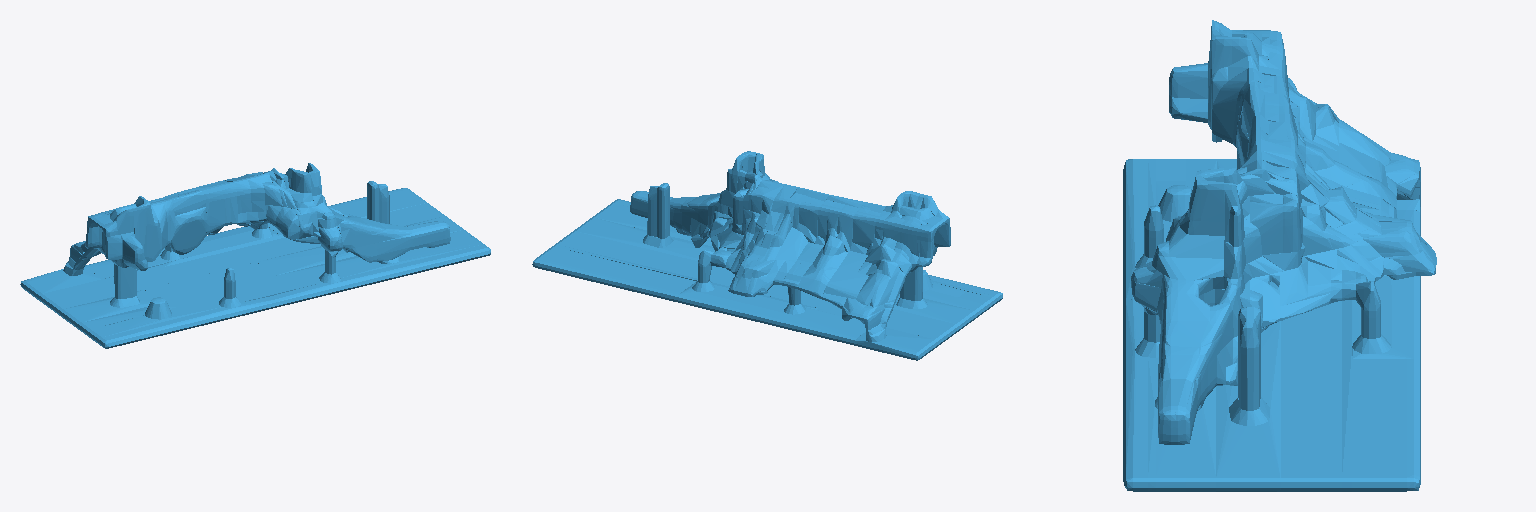
The robot description file, URDF, robot "4B-G65LH-F":
<?xml version='1.0' encoding='UTF-8'?>
<robot name="4B-G65LH-F">
  <link name="world">
    <inertial>
      <origin xyz="0.0 0.0 0.0" rpy="0.0 -0.0 0.0"/>
      <mass value="1.0"/>
      <inertia ixx="1.0" ixy="0.0" ixz="0.0" iyy="1.0" iyz="0.0" izz="1.0"/>
    </inertial>
  </link>
  <link name="G65-LH-F">
    <inertial>
      <origin xyz="-0.038415 -0.020011 0.1653" rpy="0.0 0.0 0.0"/>
      <mass value="27.493"/>
      <inertia ixx="0.71144" ixy="0.16531" ixz="0.13401" iyy="4.3631" iyz="-0.002075" izz="4.9325"/>
    </inertial>
    <visual>
      <geometry>
        <mesh filename="meshes/G65-LH-F.STL"/>
      </geometry>
      <material name=""/>
      <origin xyz="0.0 0.0 0.0" rpy="0.0 0.0 0.0"/>
    </visual>
    <collision name="G65-LH-F_collision">
      <geometry>
        <mesh filename="collision/G65-LH-F.STL"/>
        <convex filename="collision/G65-LH-F_part_0.STL"/>
        <convex filename="collision/G65-LH-F_part_1.STL"/>
        <convex filename="collision/G65-LH-F_part_2.STL"/>
        <convex filename="collision/G65-LH-F_part_3.STL"/>
        <convex filename="collision/G65-LH-F_part_4.STL"/>
        <convex filename="collision/G65-LH-F_part_5.STL"/>
        <convex filename="collision/G65-LH-F_part_6.STL"/>
        <convex filename="collision/G65-LH-F_part_7.STL"/>
        <convex filename="collision/G65-LH-F_part_8.STL"/>
        <convex filename="collision/G65-LH-F_part_9.STL"/>
        <convex filename="collision/G65-LH-F_part_10.STL"/>
        <convex filename="collision/G65-LH-F_part_11.STL"/>
        <convex filename="collision/G65-LH-F_part_12.STL"/>
        <convex filename="collision/G65-LH-F_part_13.STL"/>
        <convex filename="collision/G65-LH-F_part_14.STL"/>
        <convex filename="collision/G65-LH-F_part_15.STL"/>
        <convex filename="collision/G65-LH-F_part_16.STL"/>
        <convex filename="collision/G65-LH-F_part_17.STL"/>
        <convex filename="collision/G65-LH-F_part_18.STL"/>
        <convex filename="collision/G65-LH-F_part_19.STL"/>
        <convex filename="collision/G65-LH-F_part_20.STL"/>
        <convex filename="collision/G65-LH-F_part_21.STL"/>
        <convex filename="collision/G65-LH-F_part_22.STL"/>
        <convex filename="collision/G65-LH-F_part_23.STL"/>
        <convex filename="collision/G65-LH-F_part_24.STL"/>
        <convex filename="collision/G65-LH-F_part_25.STL"/>
        <convex filename="collision/G65-LH-F_part_26.STL"/>
        <convex filename="collision/G65-LH-F_part_27.STL"/>
        <convex filename="collision/G65-LH-F_part_28.STL"/>
        <convex filename="collision/G65-LH-F_part_29.STL"/>
        <convex filename="collision/G65-LH-F_part_30.STL"/>
        <convex filename="collision/G65-LH-F_part_31.STL"/>
        <convex filename="collision/G65-LH-F_part_32.STL"/>
        <convex filename="collision/G65-LH-F_part_33.STL"/>
        <convex filename="collision/G65-LH-F_part_34.STL"/>
        <convex filename="collision/G65-LH-F_part_35.STL"/>
        <convex filename="collision/G65-LH-F_part_36.STL"/>
        <convex filename="collision/G65-LH-F_part_37.STL"/>
        <convex filename="collision/G65-LH-F_part_38.STL"/>
        <convex filename="collision/G65-LH-F_part_39.STL"/>
        <convex filename="collision/G65-LH-F_part_40.STL"/>
        <convex filename="collision/G65-LH-F_part_41.STL"/>
        <convex filename="collision/G65-LH-F_part_42.STL"/>
        <convex filename="collision/G65-LH-F_part_43.STL"/>
        <convex filename="collision/G65-LH-F_part_44.STL"/>
        <convex filename="collision/G65-LH-F_part_45.STL"/>
        <convex filename="collision/G65-LH-F_part_46.STL"/>
        <convex filename="collision/G65-LH-F_part_47.STL"/>
        <convex filename="collision/G65-LH-F_part_48.STL"/>
        <convex filename="collision/G65-LH-F_part_49.STL"/>
        <convex filename="collision/G65-LH-F_part_50.STL"/>
        <convex filename="collision/G65-LH-F_part_51.STL"/>
        <convex filename="collision/G65-LH-F_part_52.STL"/>
        <convex filename="collision/G65-LH-F_part_53.STL"/>
        <convex filename="collision/G65-LH-F_part_54.STL"/>
        <convex filename="collision/G65-LH-F_part_55.STL"/>
        <convex filename="collision/G65-LH-F_part_56.STL"/>
        <convex filename="collision/G65-LH-F_part_57.STL"/>
        <convex filename="collision/G65-LH-F_part_58.STL"/>
        <convex filename="collision/G65-LH-F_part_59.STL"/>
        <convex filename="collision/G65-LH-F_part_60.STL"/>
        <convex filename="collision/G65-LH-F_part_61.STL"/>
        <convex filename="collision/G65-LH-F_part_62.STL"/>
        <convex filename="collision/G65-LH-F_part_63.STL"/>
        <convex filename="collision/G65-LH-F_part_64.STL"/>
        <convex filename="collision/G65-LH-F_part_65.STL"/>
        <convex filename="collision/G65-LH-F_part_66.STL"/>
        <convex filename="collision/G65-LH-F_part_67.STL"/>
        <convex filename="collision/G65-LH-F_part_68.STL"/>
        <convex filename="collision/G65-LH-F_part_69.STL"/>
        <convex filename="collision/G65-LH-F_part_70.STL"/>
        <convex filename="collision/G65-LH-F_part_71.STL"/>
        <convex filename="collision/G65-LH-F_part_72.STL"/>
        <convex filename="collision/G65-LH-F_part_73.STL"/>
        <convex filename="collision/G65-LH-F_part_74.STL"/>
        <convex filename="collision/G65-LH-F_part_75.STL"/>
        <convex filename="collision/G65-LH-F_part_76.STL"/>
        <convex filename="collision/G65-LH-F_part_77.STL"/>
        <convex filename="collision/G65-LH-F_part_78.STL"/>
        <convex filename="collision/G65-LH-F_part_79.STL"/>
        <convex filename="collision/G65-LH-F_part_80.STL"/>
        <convex filename="collision/G65-LH-F_part_81.STL"/>
        <convex filename="collision/G65-LH-F_part_82.STL"/>
        <convex filename="collision/G65-LH-F_part_83.STL"/>
        <convex filename="collision/G65-LH-F_part_84.STL"/>
        <convex filename="collision/G65-LH-F_part_85.STL"/>
        <convex filename="collision/G65-LH-F_part_86.STL"/>
        <convex filename="collision/G65-LH-F_part_87.STL"/>
        <convex filename="collision/G65-LH-F_part_88.STL"/>
        <convex filename="collision/G65-LH-F_part_89.STL"/>
        <convex filename="collision/G65-LH-F_part_90.STL"/>
        <convex filename="collision/G65-LH-F_part_91.STL"/>
        <convex filename="collision/G65-LH-F_part_92.STL"/>
        <convex filename="collision/G65-LH-F_part_93.STL"/>
        <convex filename="collision/G65-LH-F_part_94.STL"/>
        <convex filename="collision/G65-LH-F_part_95.STL"/>
        <convex filename="collision/G65-LH-F_part_96.STL"/>
        <convex filename="collision/G65-LH-F_part_97.STL"/>
        <convex filename="collision/G65-LH-F_part_98.STL"/>
        <convex filename="collision/G65-LH-F_part_99.STL"/>
        <convex filename="collision/G65-LH-F_part_100.STL"/>
        <convex filename="collision/G65-LH-F_part_101.STL"/>
        <convex filename="collision/G65-LH-F_part_102.STL"/>
        <convex filename="collision/G65-LH-F_part_103.STL"/>
        <convex filename="collision/G65-LH-F_part_104.STL"/>
        <convex filename="collision/G65-LH-F_part_105.STL"/>
        <convex filename="collision/G65-LH-F_part_106.STL"/>
        <convex filename="collision/G65-LH-F_part_107.STL"/>
        <convex filename="collision/G65-LH-F_part_108.STL"/>
        <convex filename="collision/G65-LH-F_part_109.STL"/>
        <convex filename="collision/G65-LH-F_part_110.STL"/>
        <convex filename="collision/G65-LH-F_part_111.STL"/>
        <convex filename="collision/G65-LH-F_part_112.STL"/>
        <convex filename="collision/G65-LH-F_part_113.STL"/>
        <convex filename="collision/G65-LH-F_part_114.STL"/>
        <convex filename="collision/G65-LH-F_part_115.STL"/>
        <convex filename="collision/G65-LH-F_part_116.STL"/>
        <convex filename="collision/G65-LH-F_part_117.STL"/>
        <convex filename="collision/G65-LH-F_part_118.STL"/>
        <convex filename="collision/G65-LH-F_part_119.STL"/>
        <convex filename="collision/G65-LH-F_part_120.STL"/>
        <convex filename="collision/G65-LH-F_part_121.STL"/>
        <convex filename="collision/G65-LH-F_part_122.STL"/>
        <convex filename="collision/G65-LH-F_part_123.STL"/>
        <convex filename="collision/G65-LH-F_part_124.STL"/>
        <convex filename="collision/G65-LH-F_part_125.STL"/>
        <convex filename="collision/G65-LH-F_part_126.STL"/>
        <convex filename="collision/G65-LH-F_part_127.STL"/>
        <convex filename="collision/G65-LH-F_part_128.STL"/>
        <convex filename="collision/G65-LH-F_part_129.STL"/>
        <convex filename="collision/G65-LH-F_part_130.STL"/>
        <convex filename="collision/G65-LH-F_part_131.STL"/>
        <convex filename="collision/G65-LH-F_part_132.STL"/>
        <convex filename="collision/G65-LH-F_part_133.STL"/>
        <convex filename="collision/G65-LH-F_part_134.STL"/>
        <convex filename="collision/G65-LH-F_part_135.STL"/>
        <convex filename="collision/G65-LH-F_part_136.STL"/>
        <convex filename="collision/G65-LH-F_part_137.STL"/>
        <convex filename="collision/G65-LH-F_part_138.STL"/>
        <convex filename="collision/G65-LH-F_part_139.STL"/>
        <convex filename="collision/G65-LH-F_part_140.STL"/>
        <convex filename="collision/G65-LH-F_part_141.STL"/>
        <convex filename="collision/G65-LH-F_part_142.STL"/>
        <convex filename="collision/G65-LH-F_part_143.STL"/>
        <convex filename="collision/G65-LH-F_part_144.STL"/>
        <convex filename="collision/G65-LH-F_part_145.STL"/>
        <convex filename="collision/G65-LH-F_part_146.STL"/>
        <convex filename="collision/G65-LH-F_part_147.STL"/>
        <convex filename="collision/G65-LH-F_part_148.STL"/>
        <convex filename="collision/G65-LH-F_part_149.STL"/>
        <convex filename="collision/G65-LH-F_part_150.STL"/>
        <convex filename="collision/G65-LH-F_part_151.STL"/>
        <convex filename="collision/G65-LH-F_part_152.STL"/>
        <convex filename="collision/G65-LH-F_part_153.STL"/>
        <convex filename="collision/G65-LH-F_part_154.STL"/>
        <convex filename="collision/G65-LH-F_part_155.STL"/>
        <convex filename="collision/G65-LH-F_part_156.STL"/>
        <convex filename="collision/G65-LH-F_part_157.STL"/>
        <convex filename="collision/G65-LH-F_part_158.STL"/>
        <convex filename="collision/G65-LH-F_part_159.STL"/>
        <convex filename="collision/G65-LH-F_part_160.STL"/>
        <convex filename="collision/G65-LH-F_part_161.STL"/>
        <convex filename="collision/G65-LH-F_part_162.STL"/>
        <convex filename="collision/G65-LH-F_part_163.STL"/>
        <convex filename="collision/G65-LH-F_part_164.STL"/>
        <convex filename="collision/G65-LH-F_part_165.STL"/>
        <convex filename="collision/G65-LH-F_part_166.STL"/>
        <convex filename="collision/G65-LH-F_part_167.STL"/>
        <convex filename="collision/G65-LH-F_part_168.STL"/>
        <convex filename="collision/G65-LH-F_part_169.STL"/>
        <convex filename="collision/G65-LH-F_part_170.STL"/>
        <convex filename="collision/G65-LH-F_part_171.STL"/>
        <convex filename="collision/G65-LH-F_part_172.STL"/>
        <convex filename="collision/G65-LH-F_part_173.STL"/>
        <convex filename="collision/G65-LH-F_part_174.STL"/>
        <convex filename="collision/G65-LH-F_part_175.STL"/>
        <convex filename="collision/G65-LH-F_part_176.STL"/>
        <convex filename="collision/G65-LH-F_part_177.STL"/>
        <convex filename="collision/G65-LH-F_part_178.STL"/>
        <convex filename="collision/G65-LH-F_part_179.STL"/>
        <convex filename="collision/G65-LH-F_part_180.STL"/>
        <convex filename="collision/G65-LH-F_part_181.STL"/>
        <convex filename="collision/G65-LH-F_part_182.STL"/>
        <convex filename="collision/G65-LH-F_part_183.STL"/>
        <convex filename="collision/G65-LH-F_part_184.STL"/>
        <convex filename="collision/G65-LH-F_part_185.STL"/>
        <convex filename="collision/G65-LH-F_part_186.STL"/>
        <convex filename="collision/G65-LH-F_part_187.STL"/>
        <convex filename="collision/G65-LH-F_part_188.STL"/>
        <convex filename="collision/G65-LH-F_part_189.STL"/>
        <convex filename="collision/G65-LH-F_part_190.STL"/>
        <convex filename="collision/G65-LH-F_part_191.STL"/>
        <convex filename="collision/G65-LH-F_part_192.STL"/>
        <convex filename="collision/G65-LH-F_part_193.STL"/>
        <convex filename="collision/G65-LH-F_part_194.STL"/>
        <convex filename="collision/G65-LH-F_part_195.STL"/>
        <convex filename="collision/G65-LH-F_part_196.STL"/>
        <convex filename="collision/G65-LH-F_part_197.STL"/>
        <convex filename="collision/G65-LH-F_part_198.STL"/>
        <convex filename="collision/G65-LH-F_part_199.STL"/>
        <convex filename="collision/G65-LH-F_part_200.STL"/>
        <convex filename="collision/G65-LH-F_part_201.STL"/>
        <convex filename="collision/G65-LH-F_part_202.STL"/>
        <convex filename="collision/G65-LH-F_part_203.STL"/>
        <convex filename="collision/G65-LH-F_part_204.STL"/>
        <convex filename="collision/G65-LH-F_part_205.STL"/>
        <convex filename="collision/G65-LH-F_part_206.STL"/>
        <convex filename="collision/G65-LH-F_part_207.STL"/>
        <convex filename="collision/G65-LH-F_part_208.STL"/>
        <convex filename="collision/G65-LH-F_part_209.STL"/>
        <convex filename="collision/G65-LH-F_part_210.STL"/>
        <convex filename="collision/G65-LH-F_part_211.STL"/>
        <convex filename="collision/G65-LH-F_part_212.STL"/>
        <convex filename="collision/G65-LH-F_part_213.STL"/>
        <convex filename="collision/G65-LH-F_part_214.STL"/>
        <convex filename="collision/G65-LH-F_part_215.STL"/>
        <convex filename="collision/G65-LH-F_part_216.STL"/>
        <convex filename="collision/G65-LH-F_part_217.STL"/>
        <convex filename="collision/G65-LH-F_part_218.STL"/>
        <convex filename="collision/G65-LH-F_part_219.STL"/>
        <convex filename="collision/G65-LH-F_part_220.STL"/>
        <convex filename="collision/G65-LH-F_part_221.STL"/>
        <convex filename="collision/G65-LH-F_part_222.STL"/>
        <convex filename="collision/G65-LH-F_part_223.STL"/>
        <convex filename="collision/G65-LH-F_part_224.STL"/>
        <convex filename="collision/G65-LH-F_part_225.STL"/>
        <convex filename="collision/G65-LH-F_part_226.STL"/>
        <convex filename="collision/G65-LH-F_part_227.STL"/>
        <convex filename="collision/G65-LH-F_part_228.STL"/>
        <convex filename="collision/G65-LH-F_part_229.STL"/>
        <convex filename="collision/G65-LH-F_part_230.STL"/>
        <convex filename="collision/G65-LH-F_part_231.STL"/>
        <convex filename="collision/G65-LH-F_part_232.STL"/>
        <convex filename="collision/G65-LH-F_part_233.STL"/>
        <convex filename="collision/G65-LH-F_part_234.STL"/>
        <convex filename="collision/G65-LH-F_part_235.STL"/>
        <convex filename="collision/G65-LH-F_part_236.STL"/>
        <convex filename="collision/G65-LH-F_part_237.STL"/>
        <convex filename="collision/G65-LH-F_part_238.STL"/>
        <convex filename="collision/G65-LH-F_part_239.STL"/>
        <convex filename="collision/G65-LH-F_part_240.STL"/>
        <convex filename="collision/G65-LH-F_part_241.STL"/>
        <convex filename="collision/G65-LH-F_part_242.STL"/>
        <convex filename="collision/G65-LH-F_part_243.STL"/>
        <convex filename="collision/G65-LH-F_part_244.STL"/>
        <convex filename="collision/G65-LH-F_part_245.STL"/>
        <convex filename="collision/G65-LH-F_part_246.STL"/>
        <convex filename="collision/G65-LH-F_part_247.STL"/>
        <convex filename="collision/G65-LH-F_part_248.STL"/>
        <convex filename="collision/G65-LH-F_part_249.STL"/>
        <convex filename="collision/G65-LH-F_part_250.STL"/>
        <convex filename="collision/G65-LH-F_part_251.STL"/>
        <convex filename="collision/G65-LH-F_part_252.STL"/>
        <convex filename="collision/G65-LH-F_part_253.STL"/>
        <convex filename="collision/G65-LH-F_part_254.STL"/>
        <convex filename="collision/G65-LH-F_part_255.STL"/>
        <convex filename="collision/G65-LH-F_part_256.STL"/>
        <convex filename="collision/G65-LH-F_part_257.STL"/>
        <convex filename="collision/G65-LH-F_part_258.STL"/>
        <convex filename="collision/G65-LH-F_part_259.STL"/>
        <convex filename="collision/G65-LH-F_part_260.STL"/>
        <convex filename="collision/G65-LH-F_part_261.STL"/>
        <convex filename="collision/G65-LH-F_part_262.STL"/>
        <convex filename="collision/G65-LH-F_part_263.STL"/>
        <convex filename="collision/G65-LH-F_part_264.STL"/>
        <convex filename="collision/G65-LH-F_part_265.STL"/>
        <convex filename="collision/G65-LH-F_part_266.STL"/>
        <convex filename="collision/G65-LH-F_part_267.STL"/>
        <convex filename="collision/G65-LH-F_part_268.STL"/>
        <convex filename="collision/G65-LH-F_part_269.STL"/>
        <convex filename="collision/G65-LH-F_part_270.STL"/>
        <convex filename="collision/G65-LH-F_part_271.STL"/>
        <convex filename="collision/G65-LH-F_part_272.STL"/>
        <convex filename="collision/G65-LH-F_part_273.STL"/>
        <convex filename="collision/G65-LH-F_part_274.STL"/>
        <convex filename="collision/G65-LH-F_part_275.STL"/>
        <convex filename="collision/G65-LH-F_part_276.STL"/>
        <convex filename="collision/G65-LH-F_part_277.STL"/>
        <convex filename="collision/G65-LH-F_part_278.STL"/>
        <convex filename="collision/G65-LH-F_part_279.STL"/>
        <convex filename="collision/G65-LH-F_part_280.STL"/>
        <convex filename="collision/G65-LH-F_part_281.STL"/>
        <convex filename="collision/G65-LH-F_part_282.STL"/>
        <convex filename="collision/G65-LH-F_part_283.STL"/>
        <convex filename="collision/G65-LH-F_part_284.STL"/>
        <convex filename="collision/G65-LH-F_part_285.STL"/>
        <convex filename="collision/G65-LH-F_part_286.STL"/>
        <convex filename="collision/G65-LH-F_part_287.STL"/>
        <convex filename="collision/G65-LH-F_part_288.STL"/>
        <convex filename="collision/G65-LH-F_part_289.STL"/>
        <convex filename="collision/G65-LH-F_part_290.STL"/>
        <convex filename="collision/G65-LH-F_part_291.STL"/>
        <convex filename="collision/G65-LH-F_part_292.STL"/>
        <convex filename="collision/G65-LH-F_part_293.STL"/>
        <convex filename="collision/G65-LH-F_part_294.STL"/>
        <convex filename="collision/G65-LH-F_part_295.STL"/>
        <convex filename="collision/G65-LH-F_part_296.STL"/>
        <convex filename="collision/G65-LH-F_part_297.STL"/>
        <convex filename="collision/G65-LH-F_part_298.STL"/>
        <convex filename="collision/G65-LH-F_part_299.STL"/>
        <convex filename="collision/G65-LH-F_part_300.STL"/>
        <convex filename="collision/G65-LH-F_part_301.STL"/>
        <convex filename="collision/G65-LH-F_part_302.STL"/>
        <convex filename="collision/G65-LH-F_part_303.STL"/>
        <convex filename="collision/G65-LH-F_part_304.STL"/>
        <convex filename="collision/G65-LH-F_part_305.STL"/>
        <convex filename="collision/G65-LH-F_part_306.STL"/>
        <convex filename="collision/G65-LH-F_part_307.STL"/>
        <convex filename="collision/G65-LH-F_part_308.STL"/>
        <convex filename="collision/G65-LH-F_part_309.STL"/>
        <convex filename="collision/G65-LH-F_part_310.STL"/>
        <convex filename="collision/G65-LH-F_part_311.STL"/>
        <convex filename="collision/G65-LH-F_part_312.STL"/>
        <convex filename="collision/G65-LH-F_part_313.STL"/>
        <convex filename="collision/G65-LH-F_part_314.STL"/>
        <convex filename="collision/G65-LH-F_part_315.STL"/>
        <convex filename="collision/G65-LH-F_part_316.STL"/>
        <convex filename="collision/G65-LH-F_part_317.STL"/>
        <convex filename="collision/G65-LH-F_part_318.STL"/>
        <convex filename="collision/G65-LH-F_part_319.STL"/>
        <convex filename="collision/G65-LH-F_part_320.STL"/>
        <convex filename="collision/G65-LH-F_part_321.STL"/>
        <convex filename="collision/G65-LH-F_part_322.STL"/>
        <convex filename="collision/G65-LH-F_part_323.STL"/>
        <convex filename="collision/G65-LH-F_part_324.STL"/>
        <convex filename="collision/G65-LH-F_part_325.STL"/>
        <convex filename="collision/G65-LH-F_part_326.STL"/>
        <convex filename="collision/G65-LH-F_part_327.STL"/>
        <convex filename="collision/G65-LH-F_part_328.STL"/>
        <convex filename="collision/G65-LH-F_part_329.STL"/>
        <convex filename="collision/G65-LH-F_part_330.STL"/>
        <convex filename="collision/G65-LH-F_part_331.STL"/>
        <convex filename="collision/G65-LH-F_part_332.STL"/>
        <convex filename="collision/G65-LH-F_part_333.STL"/>
        <convex filename="collision/G65-LH-F_part_334.STL"/>
        <convex filename="collision/G65-LH-F_part_335.STL"/>
        <convex filename="collision/G65-LH-F_part_336.STL"/>
        <convex filename="collision/G65-LH-F_part_337.STL"/>
        <convex filename="collision/G65-LH-F_part_338.STL"/>
        <convex filename="collision/G65-LH-F_part_339.STL"/>
        <convex filename="collision/G65-LH-F_part_340.STL"/>
        <convex filename="collision/G65-LH-F_part_341.STL"/>
        <convex filename="collision/G65-LH-F_part_342.STL"/>
        <convex filename="collision/G65-LH-F_part_343.STL"/>
        <convex filename="collision/G65-LH-F_part_344.STL"/>
        <convex filename="collision/G65-LH-F_part_345.STL"/>
        <convex filename="collision/G65-LH-F_part_346.STL"/>
        <convex filename="collision/G65-LH-F_part_347.STL"/>
        <convex filename="collision/G65-LH-F_part_348.STL"/>
      </geometry>
      <origin xyz="0.0 0.0 0.0" rpy="0.0 0.0 0.0"/>
    </collision>
  </link>
  <joint name="world" type="fixed">
    <parent link="world"/>
    <child link="G65-LH-F"/>
    <axis xyz="1. 0. 0."/>
    <origin xyz="0.0 0.0 0.0" rpy="0.0 -0.0 0.0"/>
  </joint>
  <material name="">
    <color rgba="1. 1. 1. 1."/>
  </material>
</robot>

--- What the picture shows (computed from the rendered views, not written in the file) ---
The picture shows the robot from 3 angles, left to right: view 1: azimuth 30°, elevation 25°; view 2: azimuth 150°, elevation 25°; view 3: azimuth 270°, elevation 25°; orthographic projection.
Model 4B-G65LH-F with 2 links and 1 joints (1 fixed), rooted at world, posed every joint at zero.
Visible links, largest first — view 1: G65-LH-F; view 2: G65-LH-F; view 3: G65-LH-F.
Boxes of the visible links, x1,y1,x2,y2 form: G65-LH-F: [20, 163, 490, 348]; G65-LH-F: [532, 151, 1002, 360]; G65-LH-F: [1123, 20, 1436, 491].
Size in the robot's own frame: 1.72 by 0.6994 by 0.491 metres.
1 mesh visuals loaded from 1 distinct referenced files (1 binary STL).
